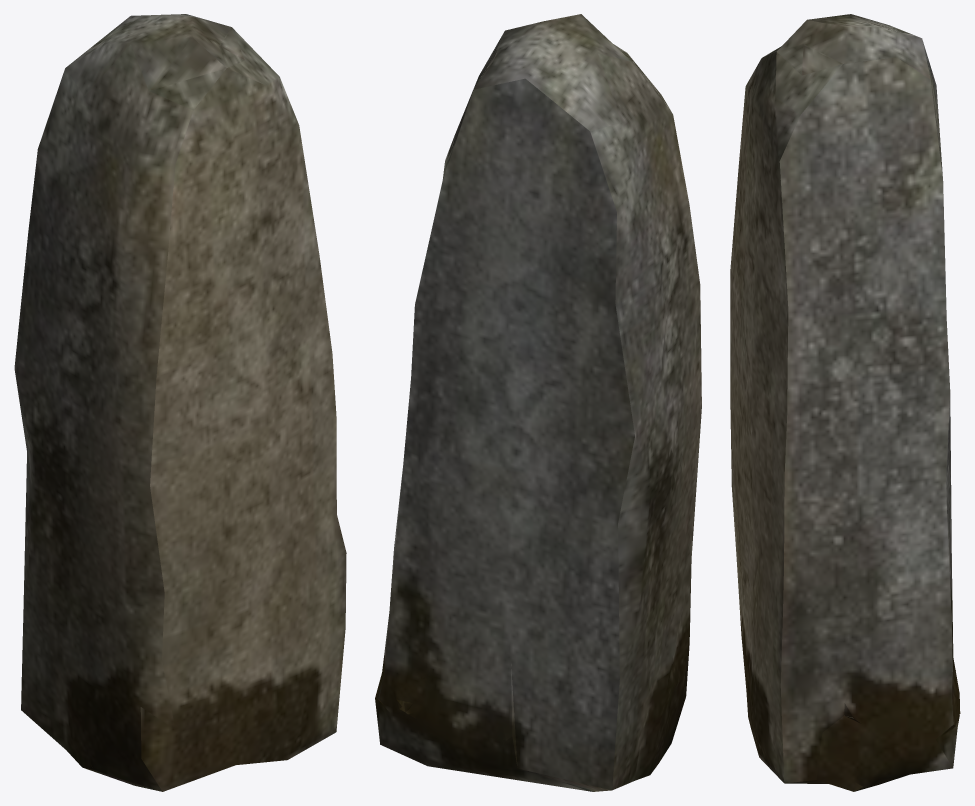
Rendered from stone-a-lod1.glb.
The picture shows the model from 3 angles, left to right: view 1: azimuth 30°, elevation 25°; view 2: azimuth 150°, elevation 25°; view 3: azimuth 270°, elevation 25°; orthographic projection. The views are drawn at different scales.
Visible parts, largest first — view 1: stone-a-lod1; view 2: stone-a-lod1; view 3: stone-a-lod1.
Boxes of the visible parts, bbox=[...] form: stone-a-lod1: bbox=[14, 14, 346, 791]; stone-a-lod1: bbox=[375, 14, 701, 791]; stone-a-lod1: bbox=[730, 14, 960, 791].
Size of the model in its own units: 1.11 by 2.99 by 0.8749.
Materials: 1 (1 with a texture image).
